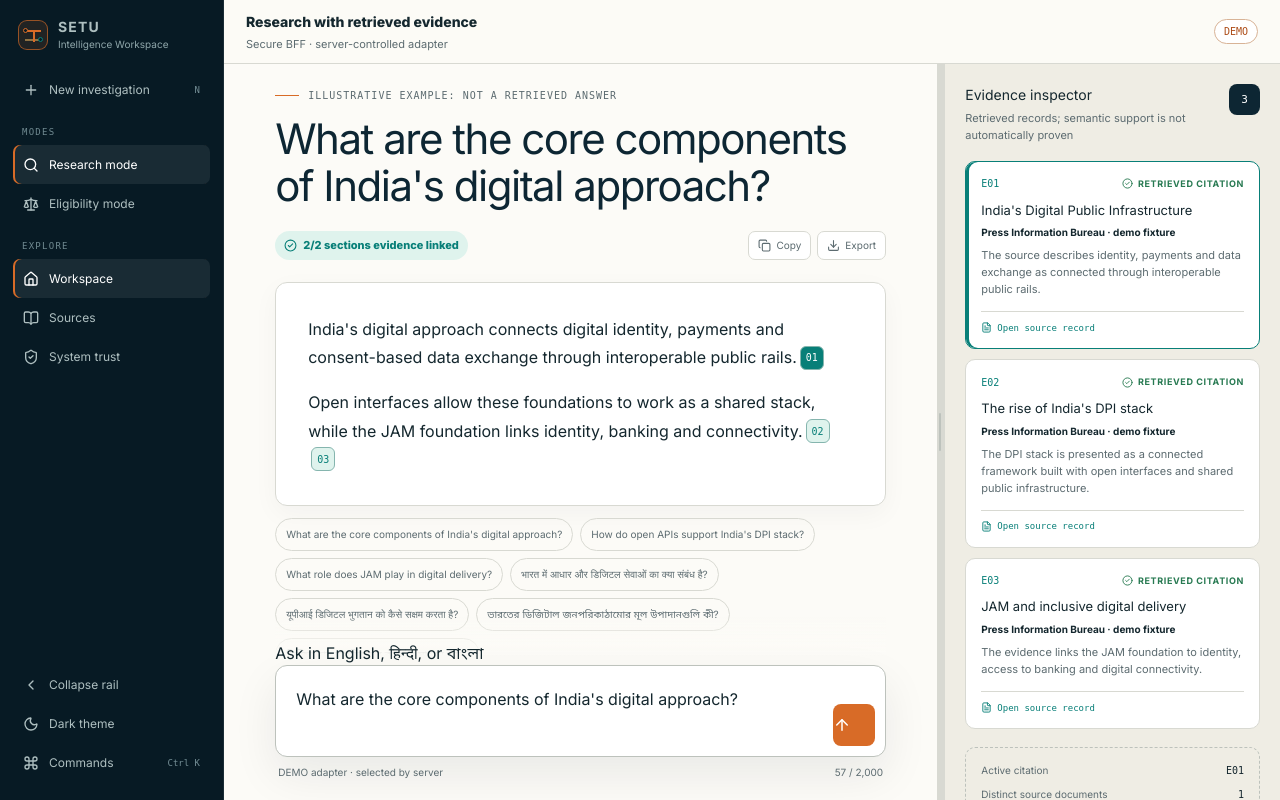
Test: WorkspaceDemo › shows a traffic-rule answer with its official source instead of an abstention
The width and height of the screenshot is (1280, 800).
What coordinates should you click on to do the following:
click the button named "Run corpus investigation"
I would click on:
 (854, 725)
Its box is [833,704,875,746].
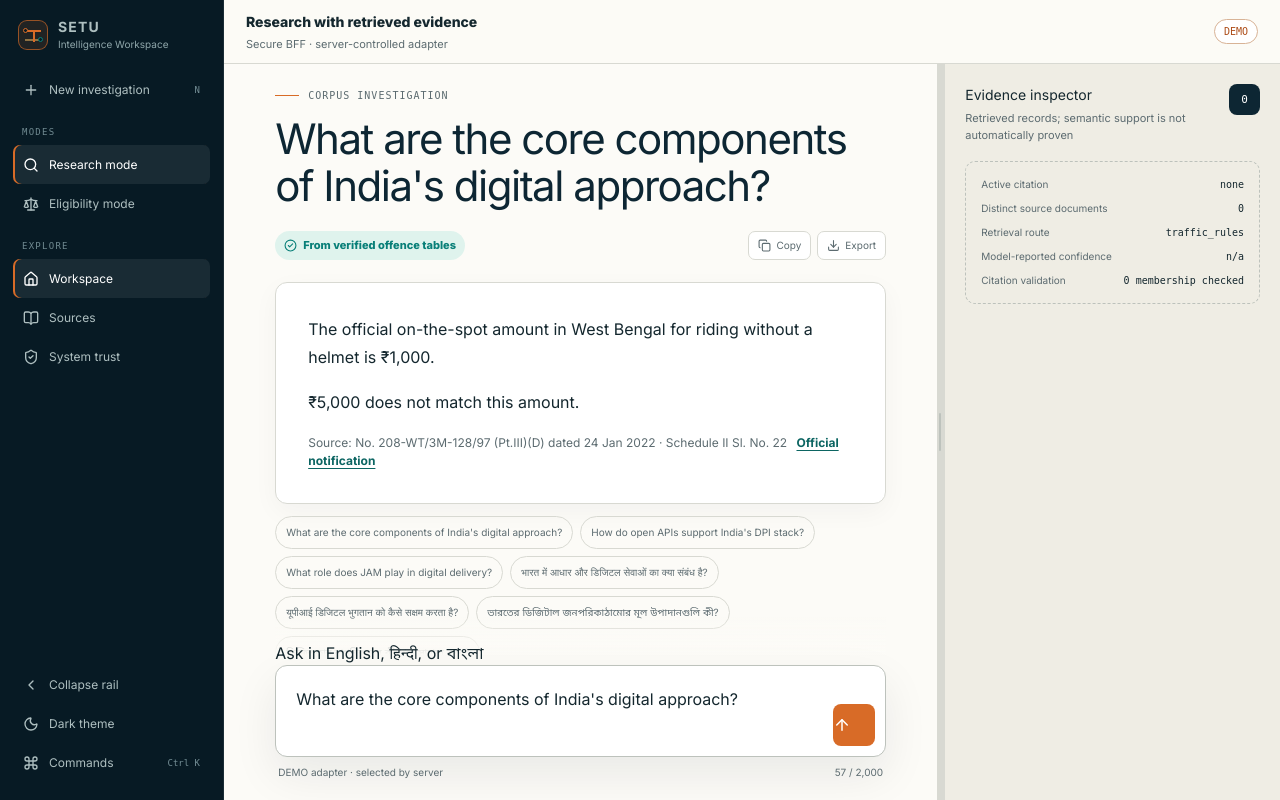
Check: the element named "Answer from verified offence tables" shows "₹5,000 does not match this amount.", box [308,392,579,412]
Check: the text "From verified offence tables" is shown, box [275,231,465,260]
